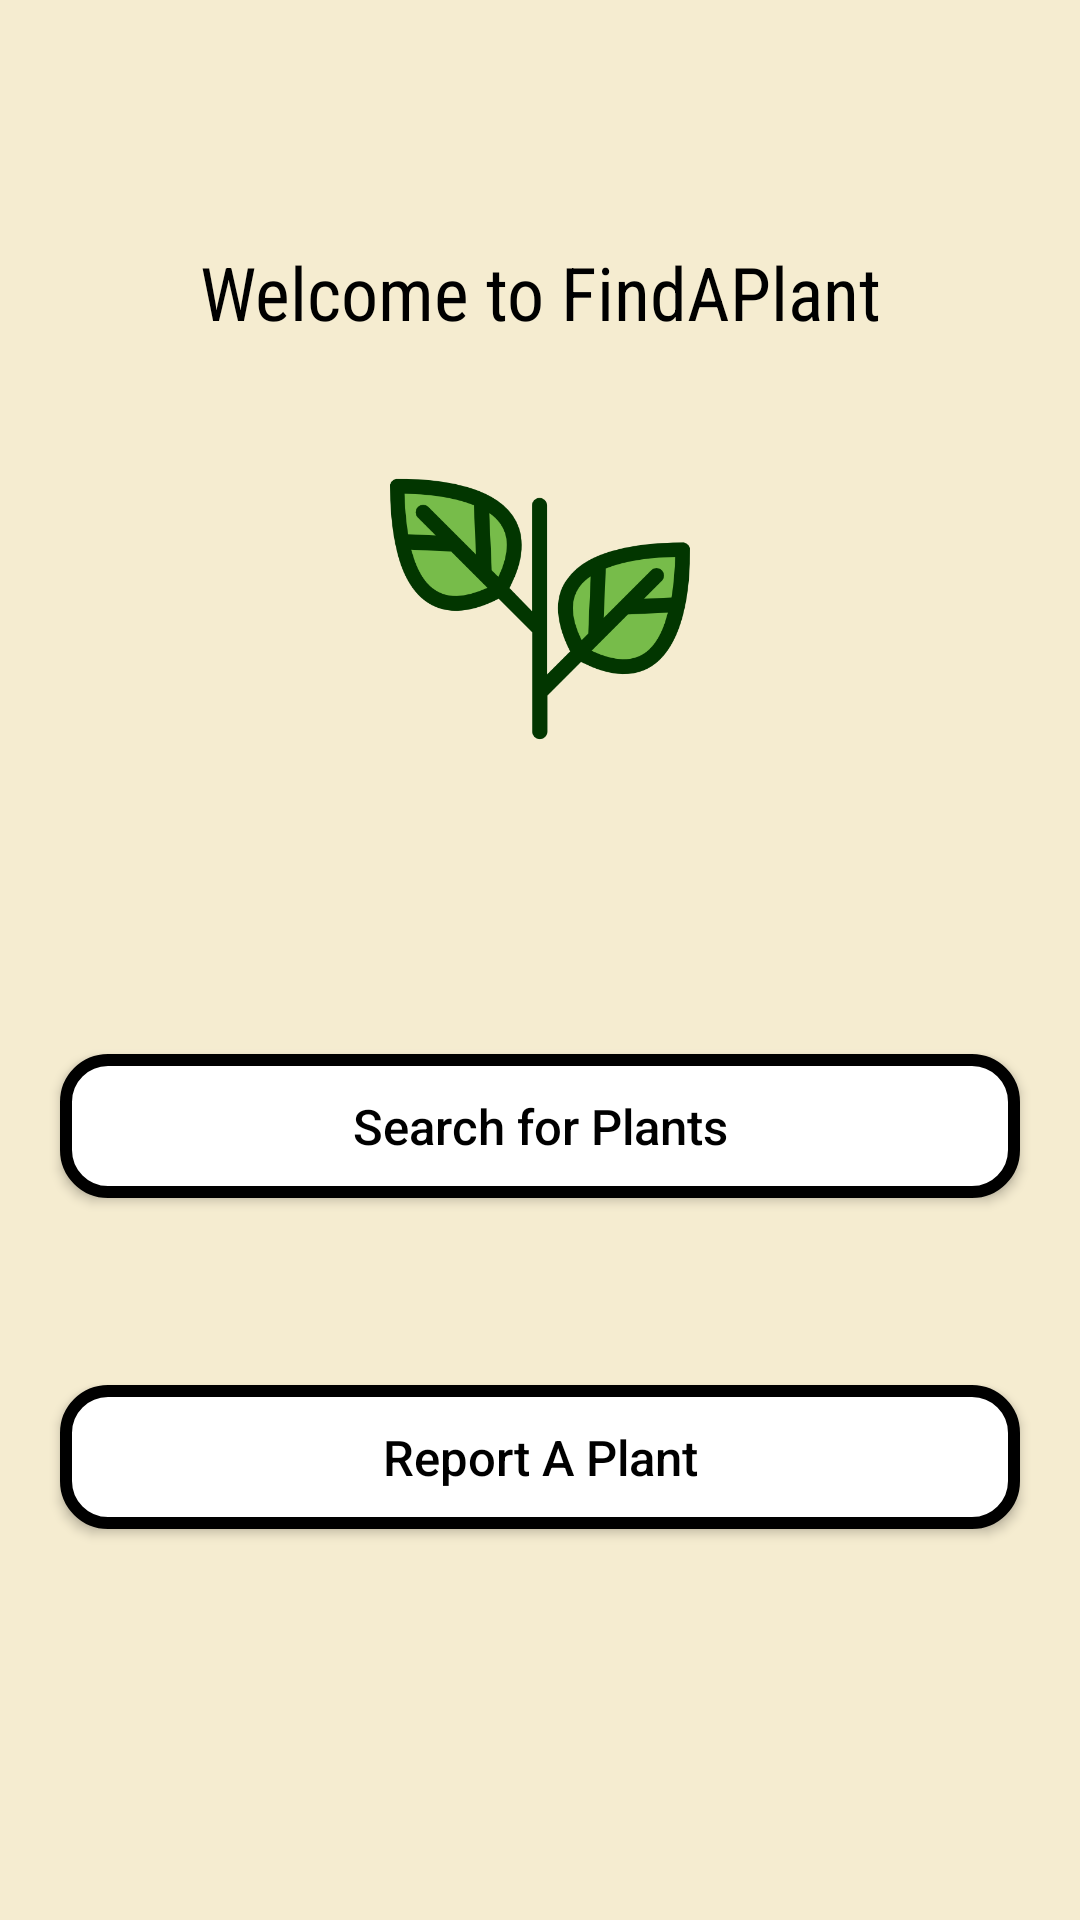

Locate icon controls on the screen. Image size 1080x1920, boxes as (x1, y1, x2, y2).
leaf: (390, 479, 690, 739)
